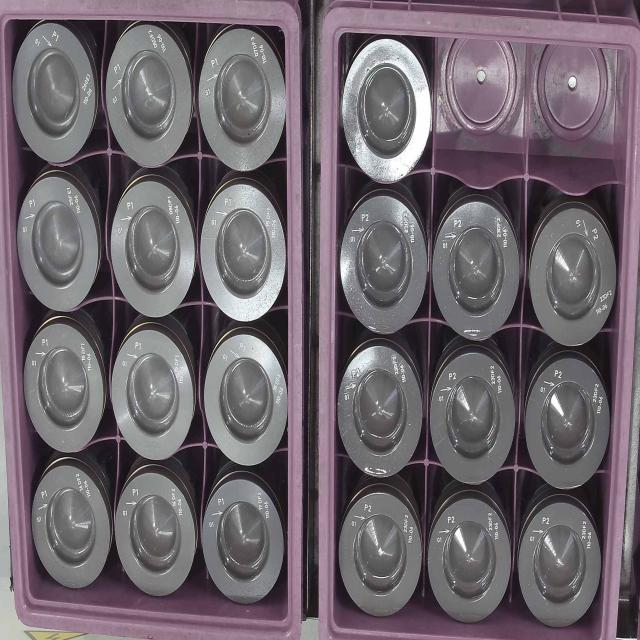P1: (102, 22, 196, 170), (108, 178, 197, 320), (201, 22, 286, 170), (201, 182, 286, 327), (12, 26, 98, 166), (15, 175, 101, 312), (205, 332, 290, 470), (113, 327, 198, 461), (20, 326, 109, 453), (27, 464, 110, 590), (205, 477, 285, 607), (120, 471, 195, 598)
P2: (534, 193, 621, 348), (433, 192, 520, 344), (346, 38, 432, 187), (342, 191, 426, 336), (526, 352, 611, 492), (431, 352, 517, 487), (428, 494, 514, 628), (338, 349, 424, 480), (521, 496, 603, 631), (338, 491, 422, 618)
